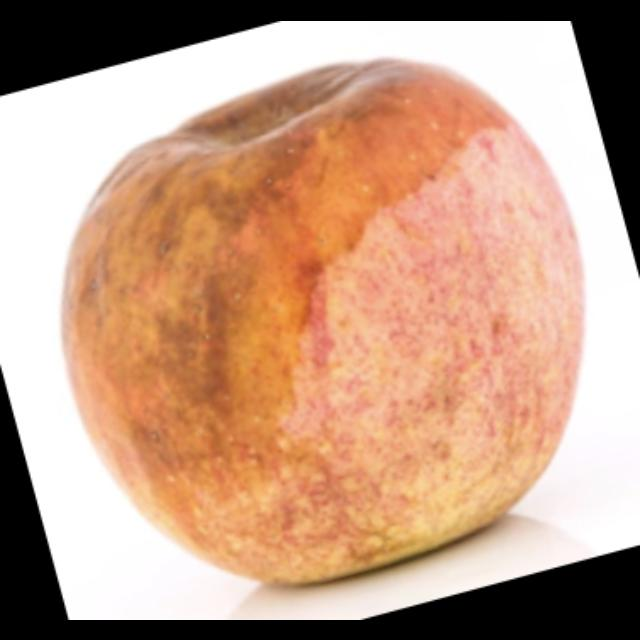Apel Tidak Segar: (62, 57, 590, 586)
